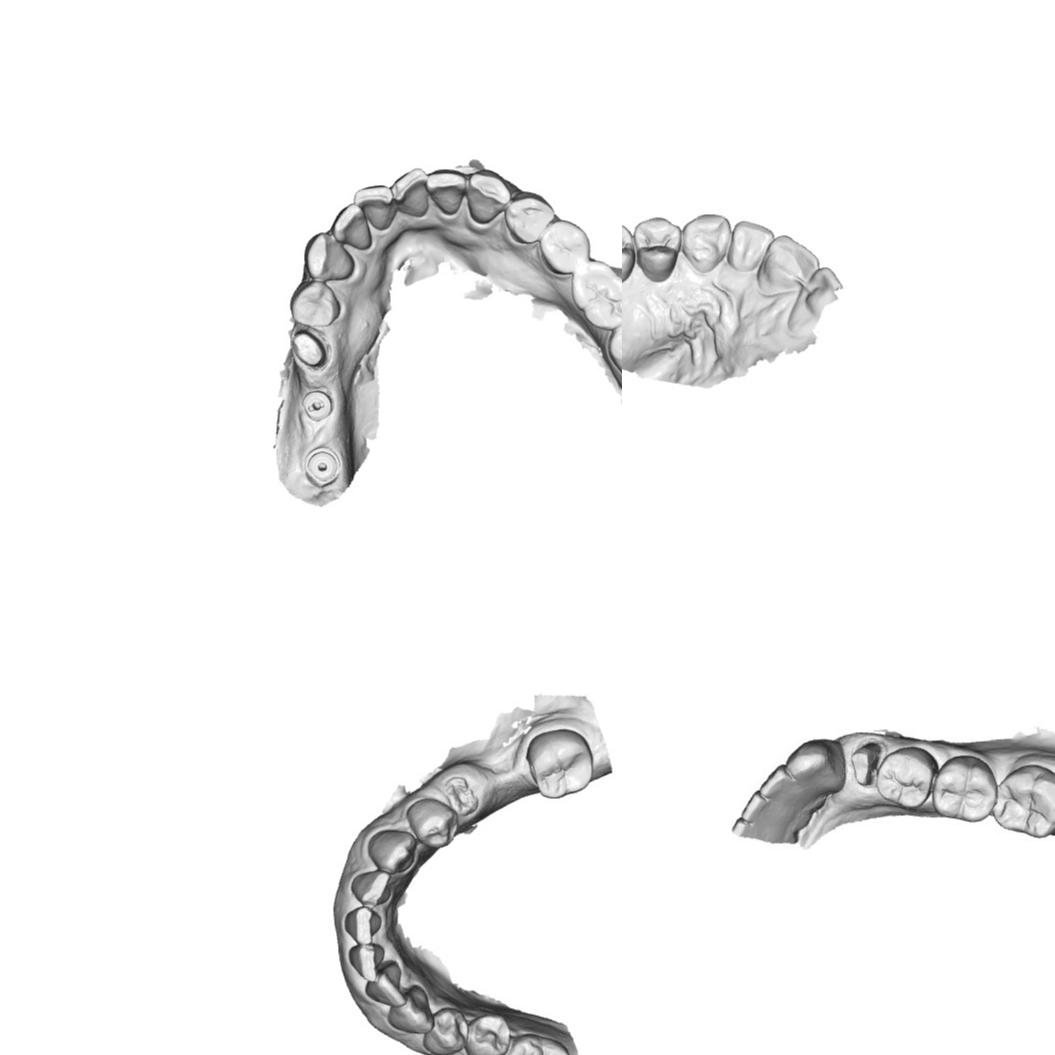canine: (784, 735, 844, 801), (679, 212, 733, 274), (302, 230, 356, 282), (466, 168, 512, 225), (366, 827, 418, 876), (385, 984, 435, 1034)
crown: (290, 329, 329, 370), (848, 740, 880, 786)
implant: (302, 443, 341, 488)
implant_minus: (300, 389, 334, 423)
incisor: (756, 234, 820, 296), (725, 219, 776, 272), (389, 165, 429, 218), (331, 201, 373, 251), (352, 184, 395, 232), (364, 960, 406, 1008), (426, 168, 466, 216), (348, 868, 394, 906), (346, 939, 385, 983), (343, 904, 383, 946), (758, 766, 796, 807), (739, 789, 775, 828)
molar: (525, 726, 594, 801), (992, 762, 1055, 839), (935, 756, 997, 821), (569, 257, 622, 330), (501, 1031, 573, 1055), (605, 311, 622, 387)
premolar: (876, 746, 934, 811), (632, 215, 684, 283), (538, 218, 592, 276), (503, 190, 557, 246), (404, 796, 460, 850), (288, 280, 341, 328), (422, 1004, 470, 1055), (464, 1011, 511, 1055), (622, 221, 638, 283)
